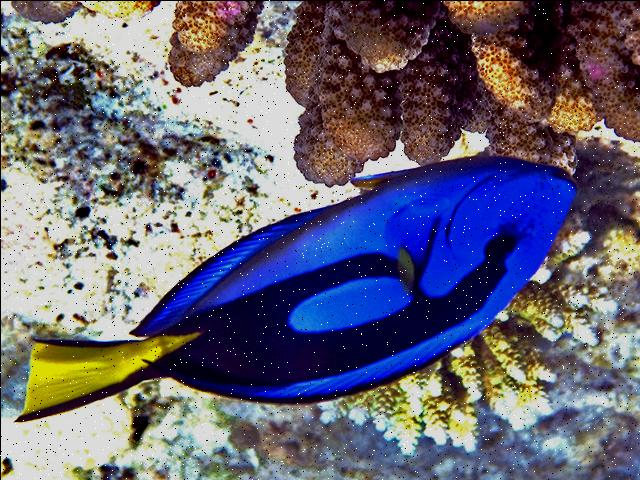Mulut: (535, 145, 607, 213)
Sirip Anal: (126, 200, 327, 342)
Sirip Dada: (360, 182, 462, 306)
Sirip Ekor: (5, 316, 156, 432)
Sirip Perut: (337, 146, 425, 200)
Sirip Punggung: (157, 308, 480, 410)
